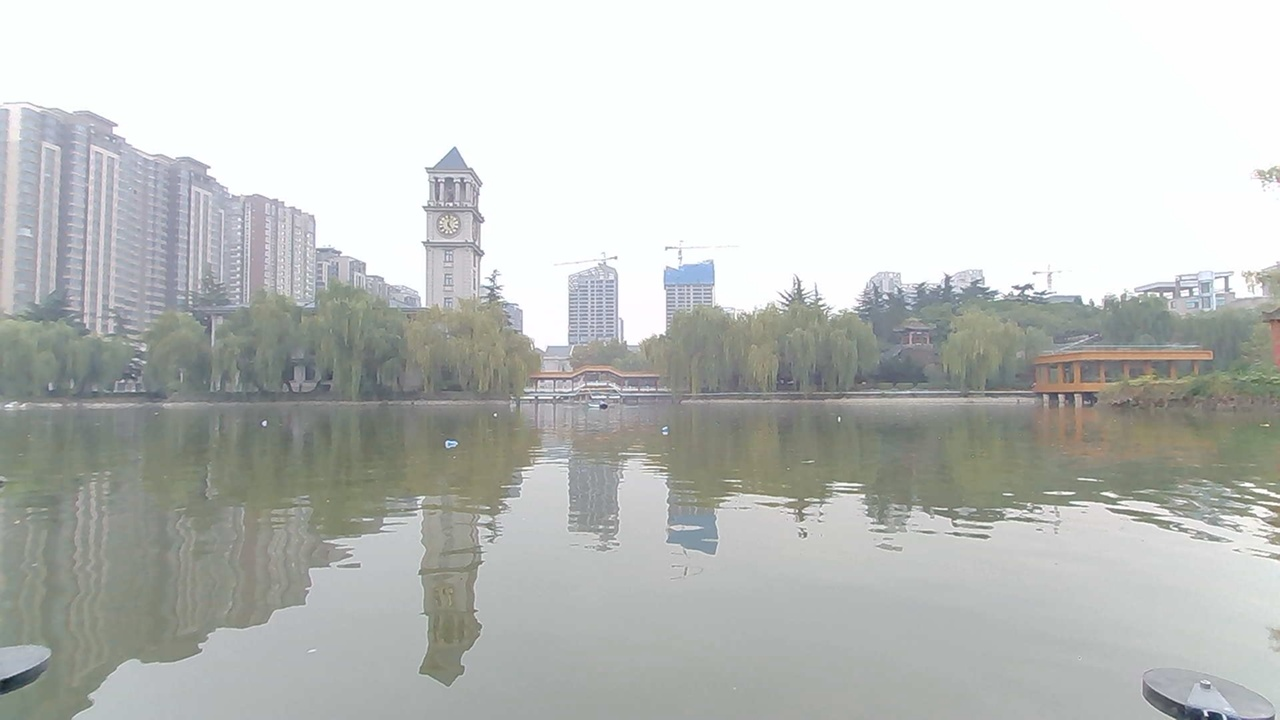bottle: (641, 412, 675, 439), (246, 411, 284, 435), (827, 410, 857, 436), (437, 438, 474, 459), (483, 404, 512, 426)
